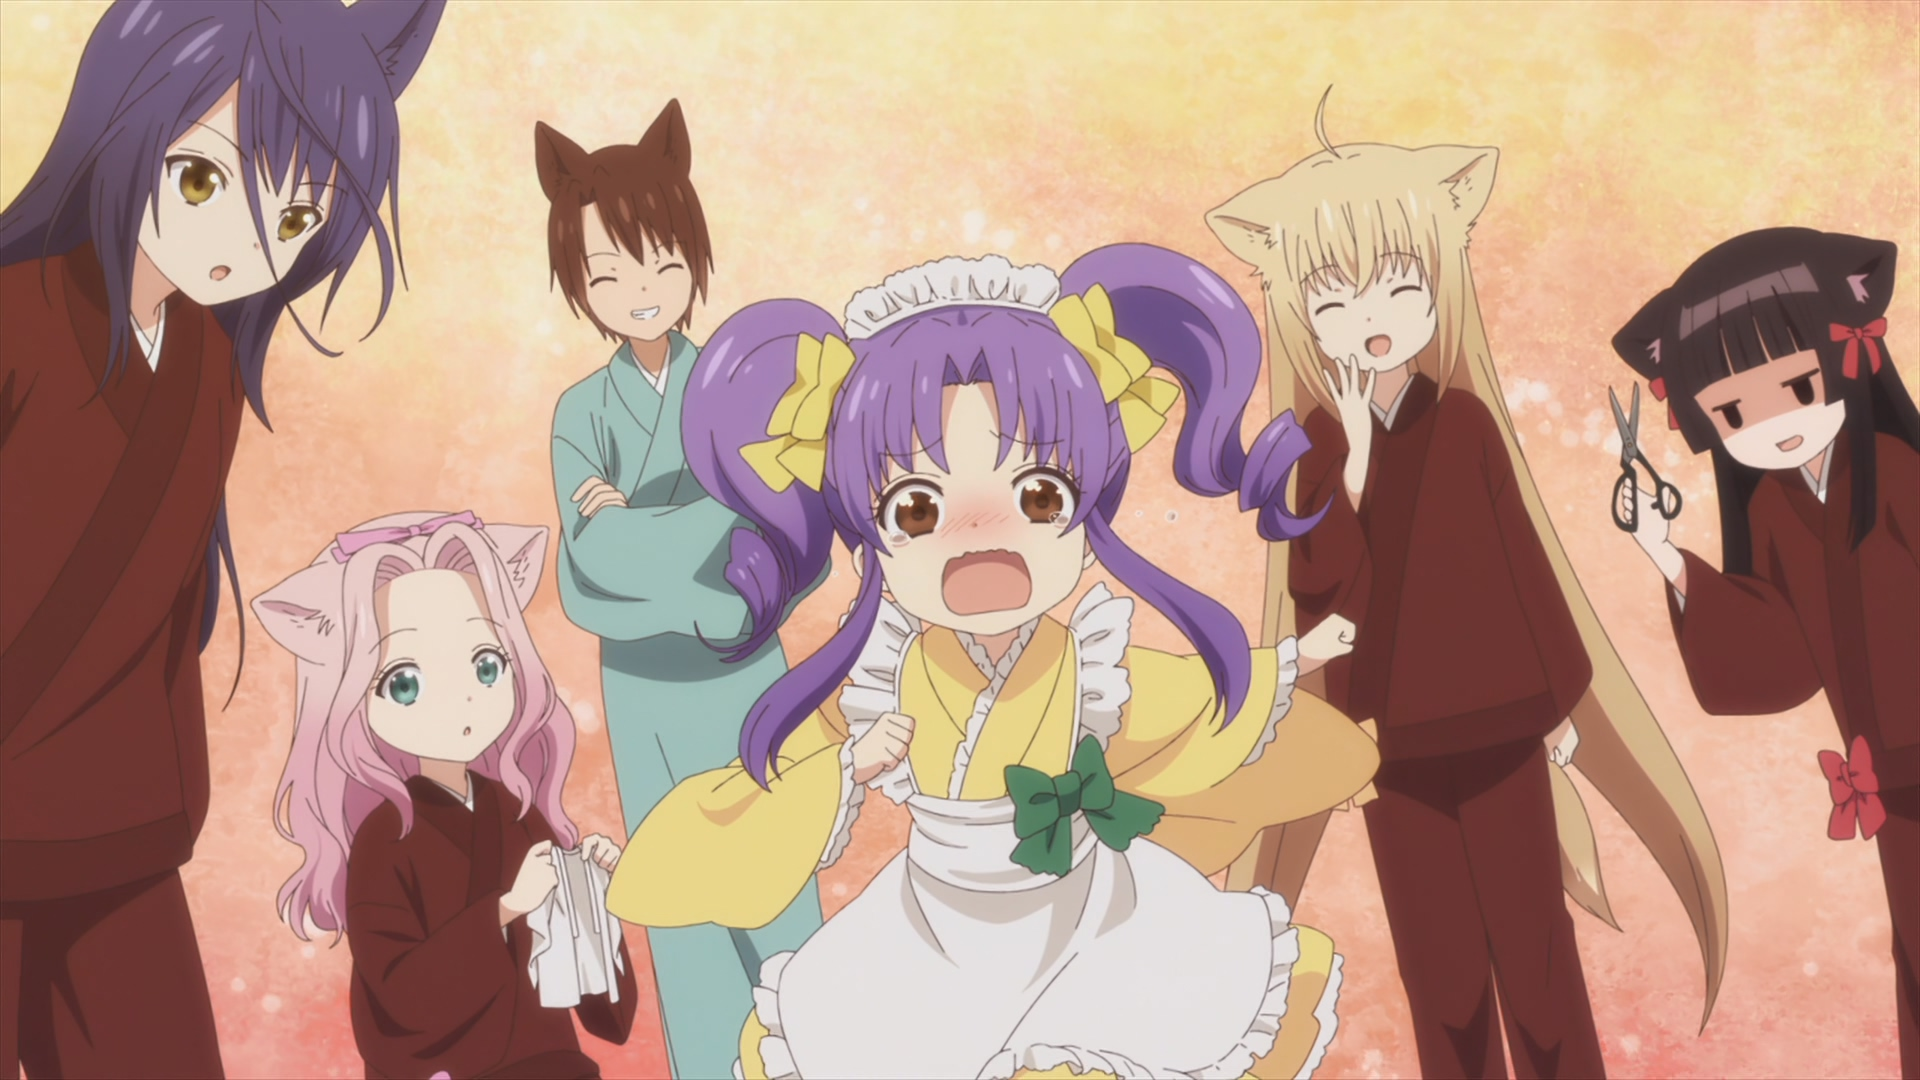枣: (535, 100, 827, 1080)
柚: (1204, 88, 1727, 1080)
樱: (1609, 227, 1920, 1080)
皋: (1, 1, 444, 1080)
莲: (252, 512, 636, 1080)
阿菊: (608, 243, 1377, 1080)
